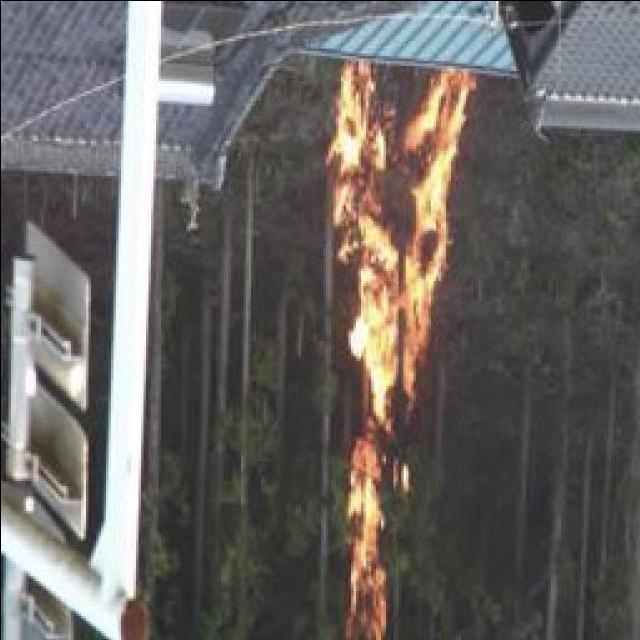Fire: (316, 54, 471, 637)
